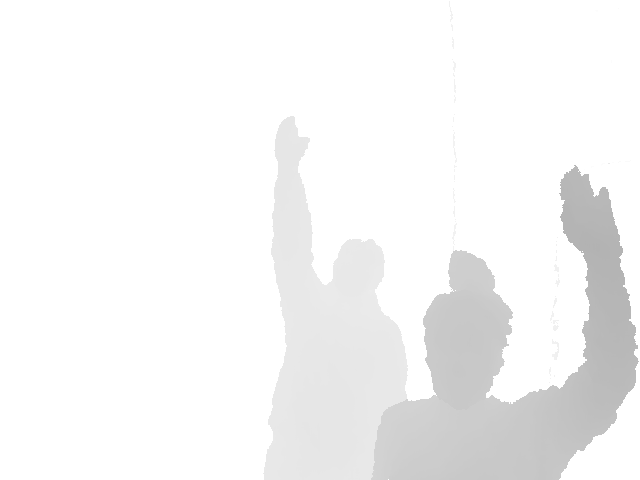hand: (559, 165, 624, 257), (274, 115, 310, 169)
head: (421, 249, 514, 412), (332, 238, 384, 298)
person: (368, 165, 640, 480), (261, 114, 411, 480)
